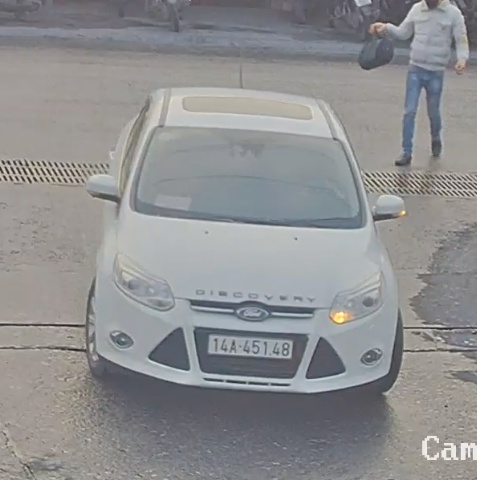vehicle plate: (205, 327, 294, 360)
